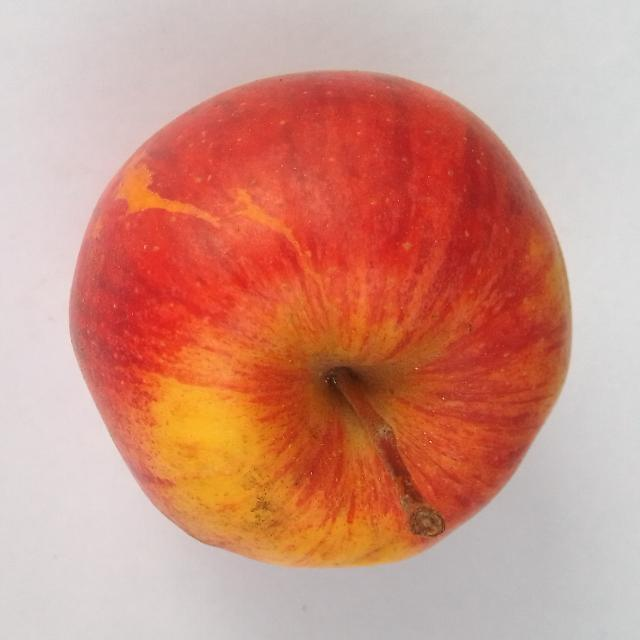Fresh Apple: (65, 62, 567, 570)
